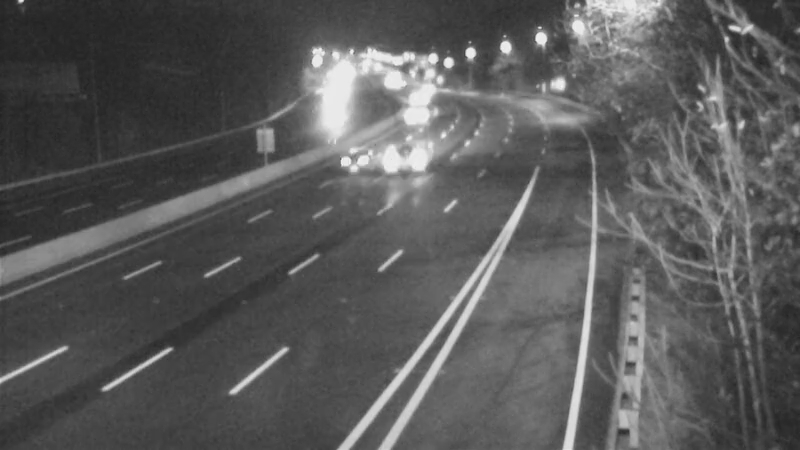vehicle: (374, 114, 454, 194), (313, 119, 393, 199), (402, 64, 452, 114), (388, 70, 438, 120), (386, 89, 436, 139)
